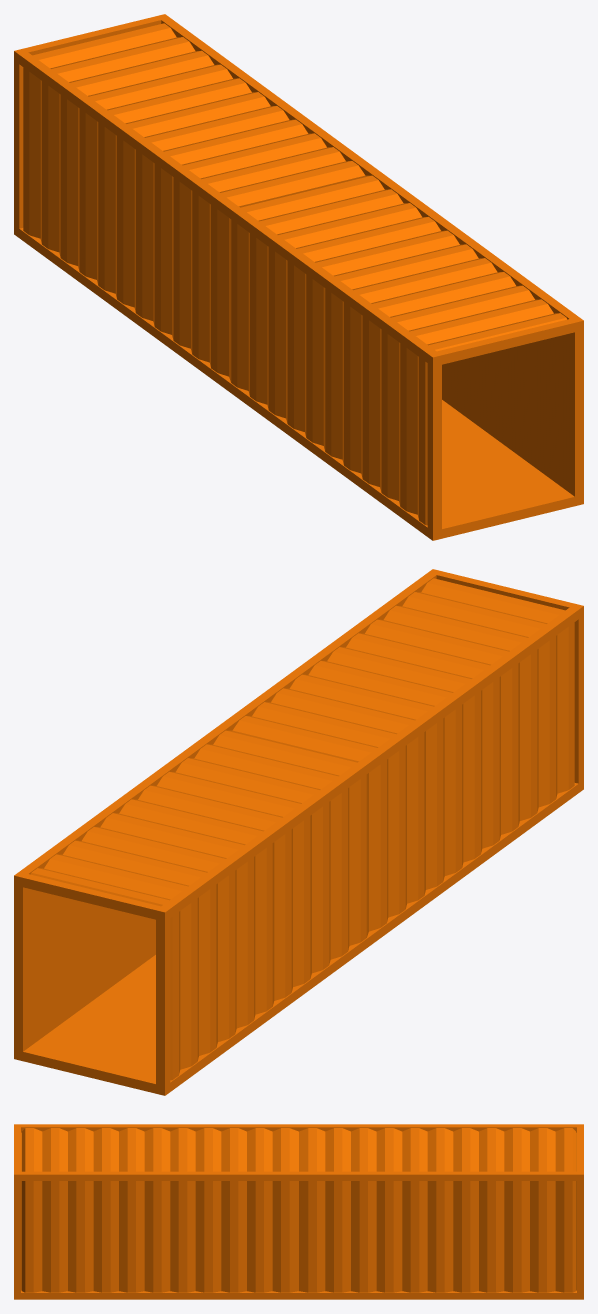
File: SM_IndustrialProps_ShippingContainer_02.fbx
3 renders of one model, top to bottom at view 1: azimuth 30°, elevation 25°; view 2: azimuth 150°, elevation 25°; view 3: azimuth 270°, elevation 25°, orthographic. The views are drawn at different scales.
Visible parts, largest first — view 1: SM_IndustrialProps_ShippingContainer_02; view 2: SM_IndustrialProps_ShippingContainer_02; view 3: SM_IndustrialProps_ShippingContainer_02.
Boxes of the visible parts, x1=… form: SM_IndustrialProps_ShippingContainer_02: x1=14, y1=14, x2=583, y2=540; SM_IndustrialProps_ShippingContainer_02: x1=14, y1=569, x2=583, y2=1095; SM_IndustrialProps_ShippingContainer_02: x1=14, y1=1124, x2=583, y2=1299.
Size of the model in its own units: 2.5 by 2.9 by 12.
